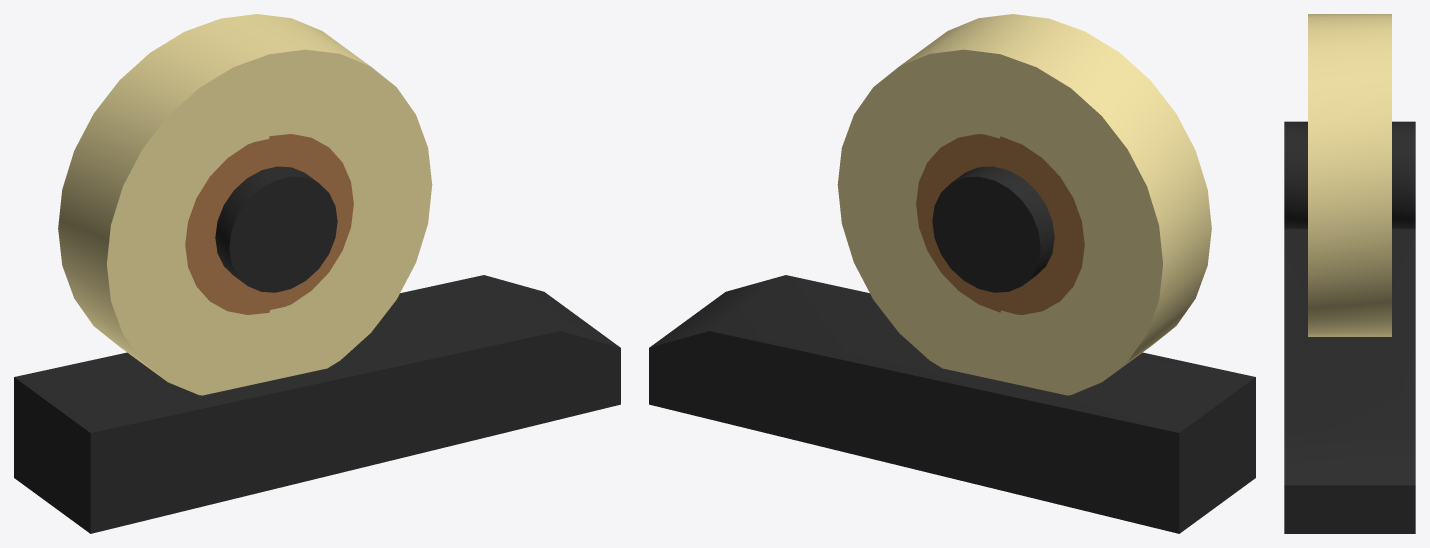
Rendered from tape_dispenser.glb.
3 renders of one model, left to right at view 1: azimuth 30°, elevation 25°; view 2: azimuth 150°, elevation 25°; view 3: azimuth 270°, elevation 25°, orthographic. The views are drawn at different scales.
Parts seen in each view (by area): view 1: tape_dispenser; view 2: tape_dispenser; view 3: tape_dispenser.
Part boxes in pixels (x1,y1,x2,y2): tape_dispenser: (14,14,620,533); tape_dispenser: (649,14,1255,533); tape_dispenser: (1284,14,1415,533).
Bounding box in the file's own units: 0.09 × 0.0685 × 0.0225.
